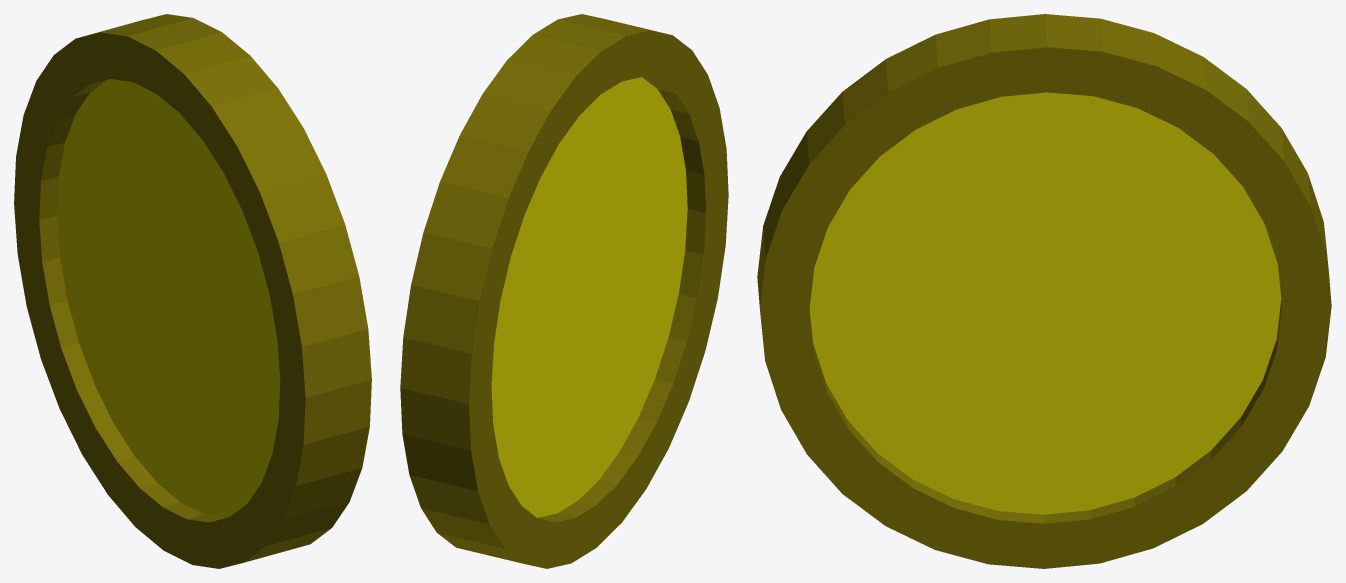
The model's file is coin.glb.
3 renders of one model, left to right at view 1: azimuth 30°, elevation 25°; view 2: azimuth 150°, elevation 25°; view 3: azimuth 270°, elevation 25°, orthographic. The views are drawn at different scales.
Visible parts, largest first — view 1: Cylinder; view 2: Cylinder; view 3: Cylinder.
Part boxes in pixels (bbox=[...]): Cylinder: bbox=[14, 14, 371, 568]; Cylinder: bbox=[400, 14, 728, 568]; Cylinder: bbox=[757, 14, 1331, 568].
Bounding box in the file's own units: 0.3531 × 2 × 2.01.
